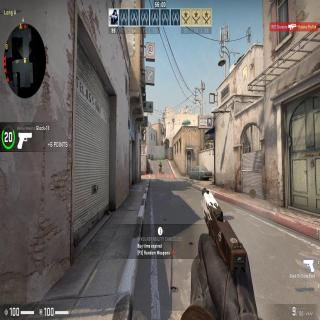CT-Body: (159, 160, 162, 173)
CT-Head: (160, 160, 161, 163)
